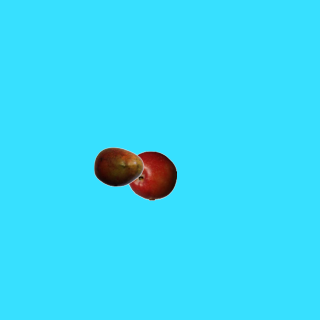Apple Braeburn: (126, 150, 176, 200)
Mango Red: (93, 141, 143, 191)
